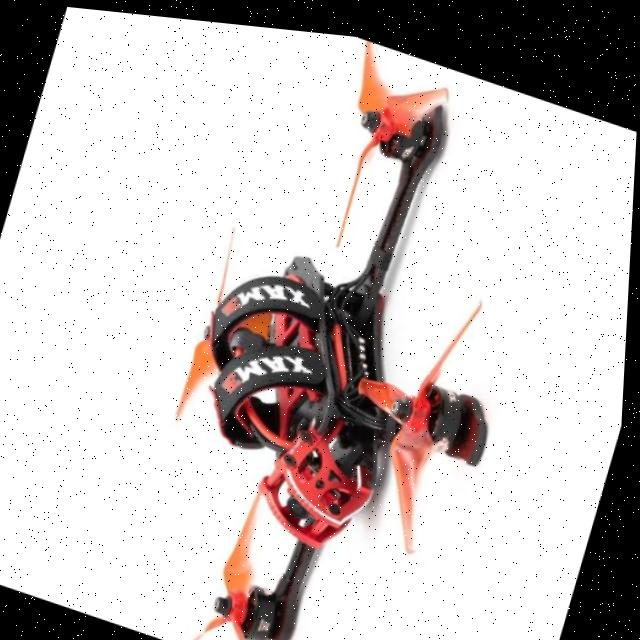drones: (108, 11, 597, 640)
